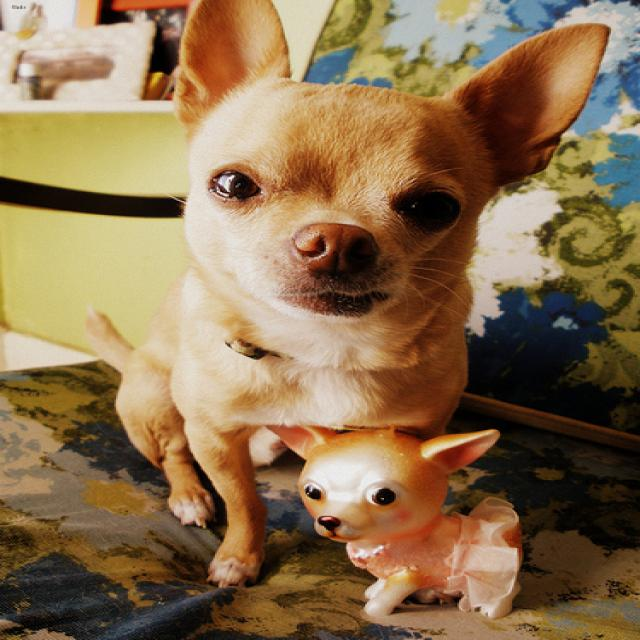dog-chihuahua: (75, 1, 620, 598)
